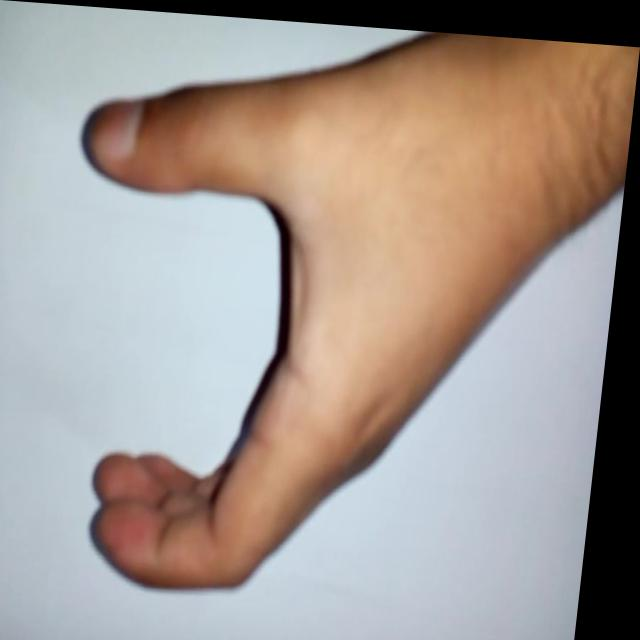C: (31, 57, 524, 614)
